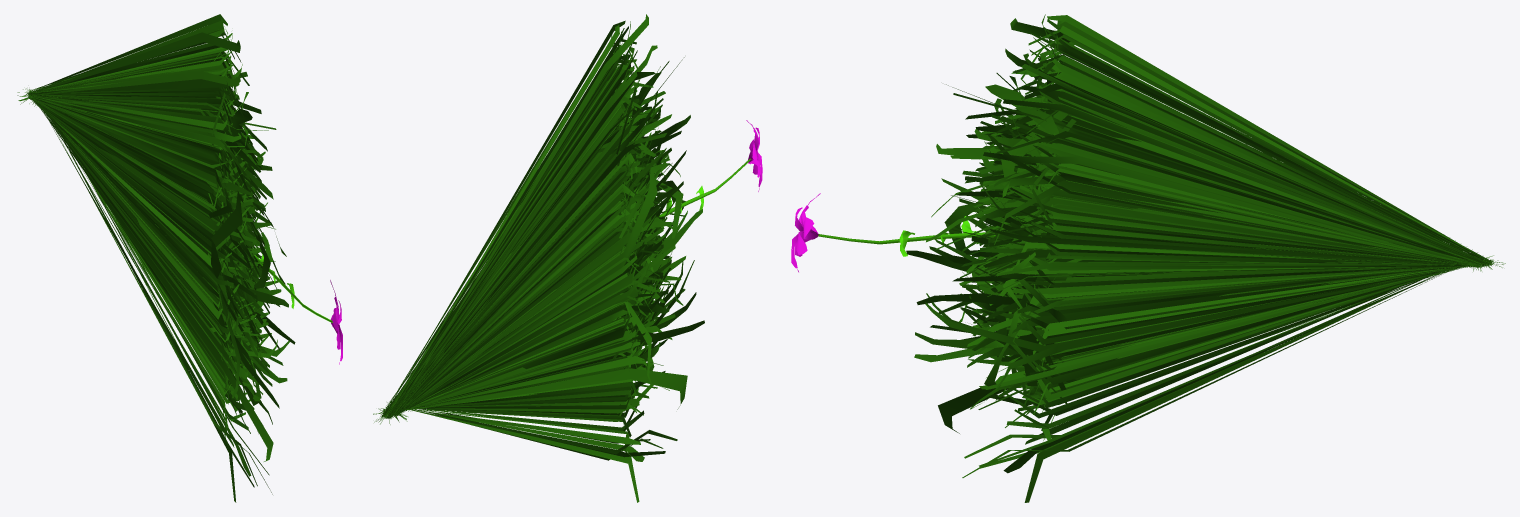
Rendered from Player_Grow2.fbx.
The picture shows the model from 3 angles, left to right: view 1: azimuth 30°, elevation 25°; view 2: azimuth 150°, elevation 25°; view 3: azimuth 270°, elevation 25°; orthographic projection. The views are drawn at different scales.
Visible parts, largest first — view 1: Player; view 2: Player; view 3: Player.
Boxes of the visible parts, left/top/right/bottom form: Player: left=17, top=14, right=342, bottom=502; Player: left=373, top=14, right=762, bottom=502; Player: left=791, top=14, right=1505, bottom=502.
Bounding box in the file's own units: 0.2204 × 2.02 × 2.67.
